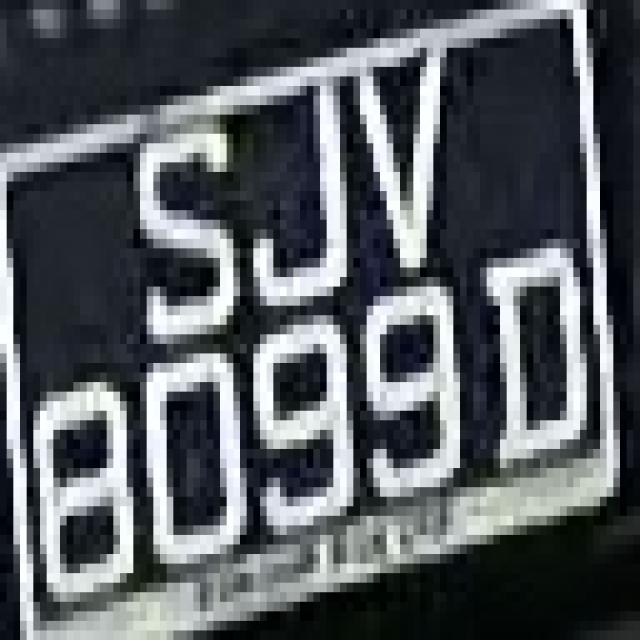0: (126, 344, 246, 573)
8: (13, 363, 154, 621)
9: (340, 287, 493, 554), (240, 315, 367, 564)
D: (493, 220, 607, 506)
J: (214, 76, 354, 325)
S: (120, 76, 240, 372)
V: (327, 29, 460, 296)
